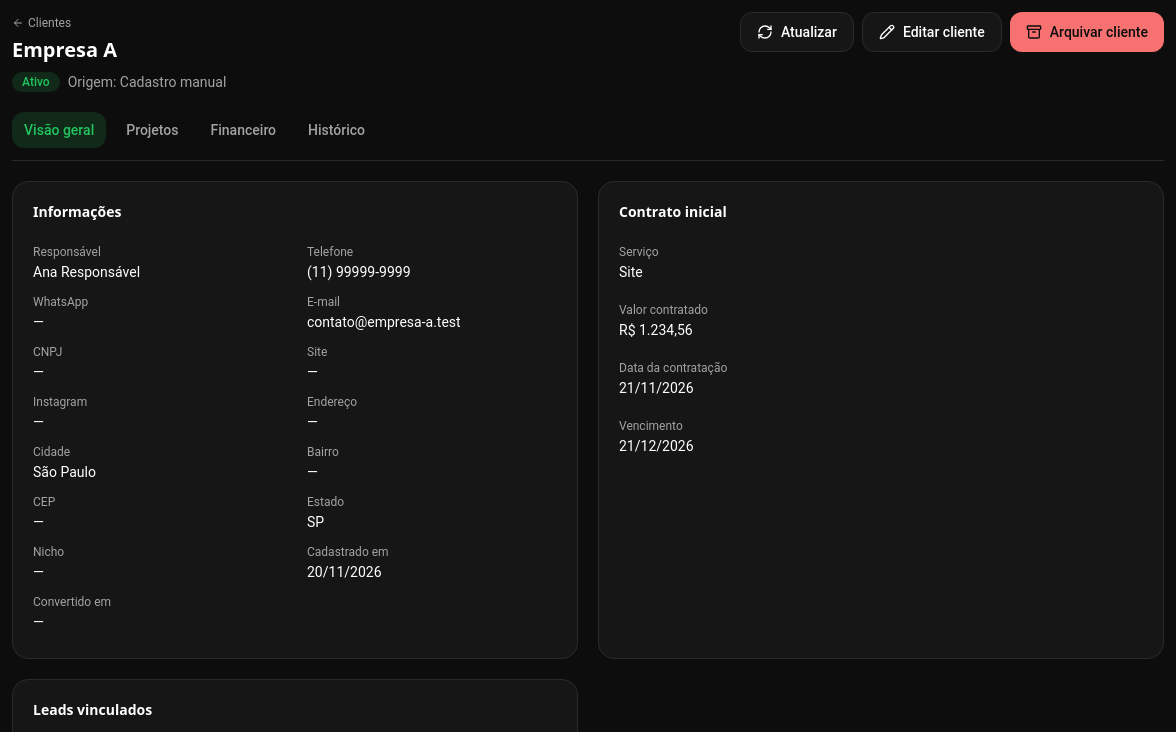
Test case: ClientDetailPage › mostra projetos básicos sem antecipar a rota do Plano 2
The width and height of the screenshot is (1176, 732).
expect the heading "Empresa A" is shown: met, box [12,36,117,63]
Click the tab "Projetos" at (152, 130), box [114,112,191,148]
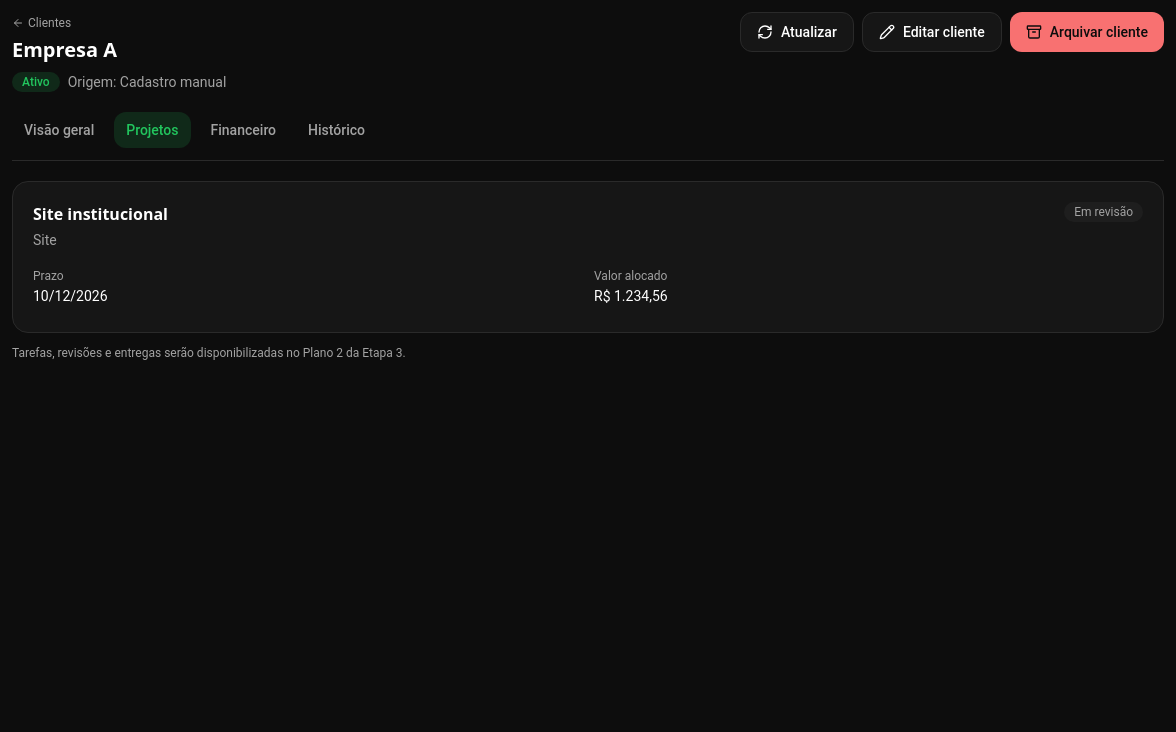
expect the text "R$ 1.234,56" is shown: met, box [594,288,668,304]
expect the heading "Site institucional" is shown: met, box [33,202,168,226]
expect the text "Em revisão" is shown: met, box [1064,202,1143,222]
